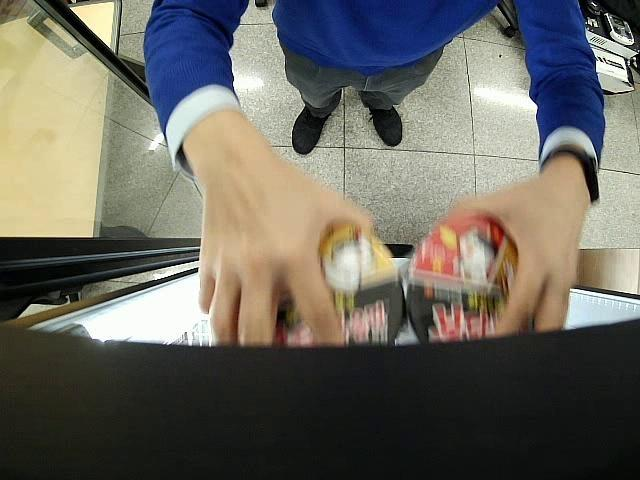07_buldak_L: (276, 226, 406, 348), (407, 216, 518, 343)
